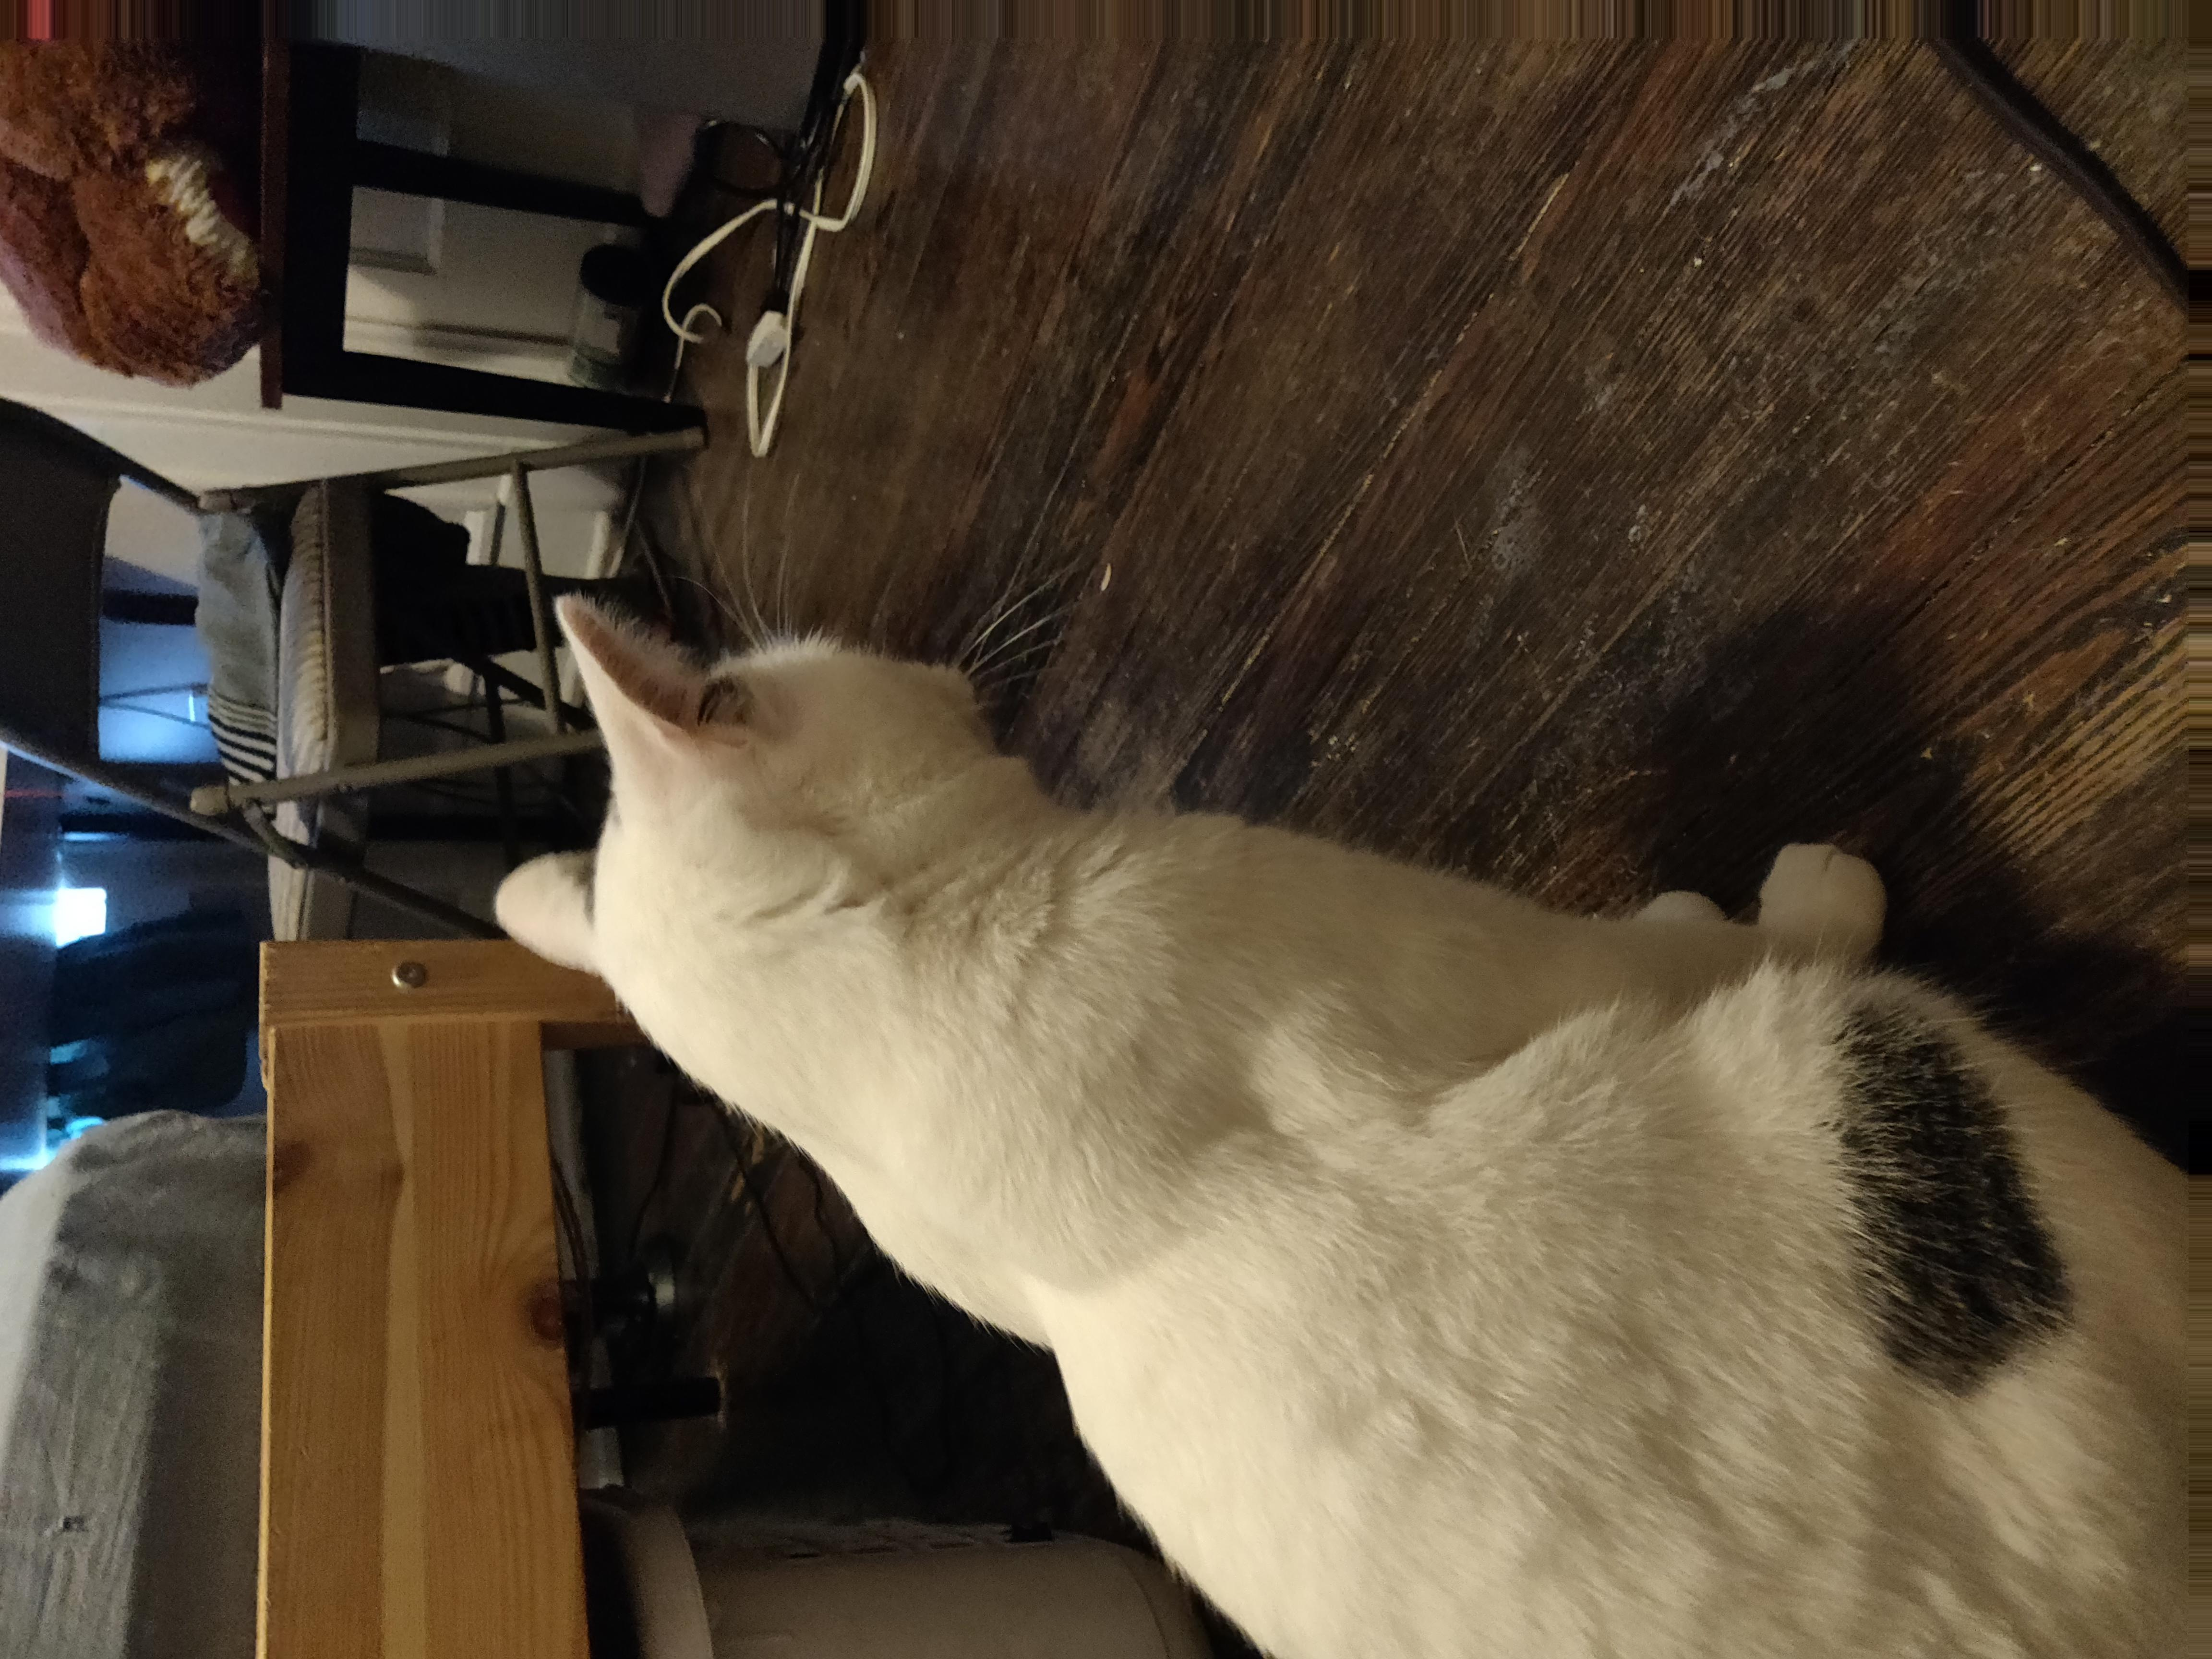cat: (488, 566, 2212, 1659)
